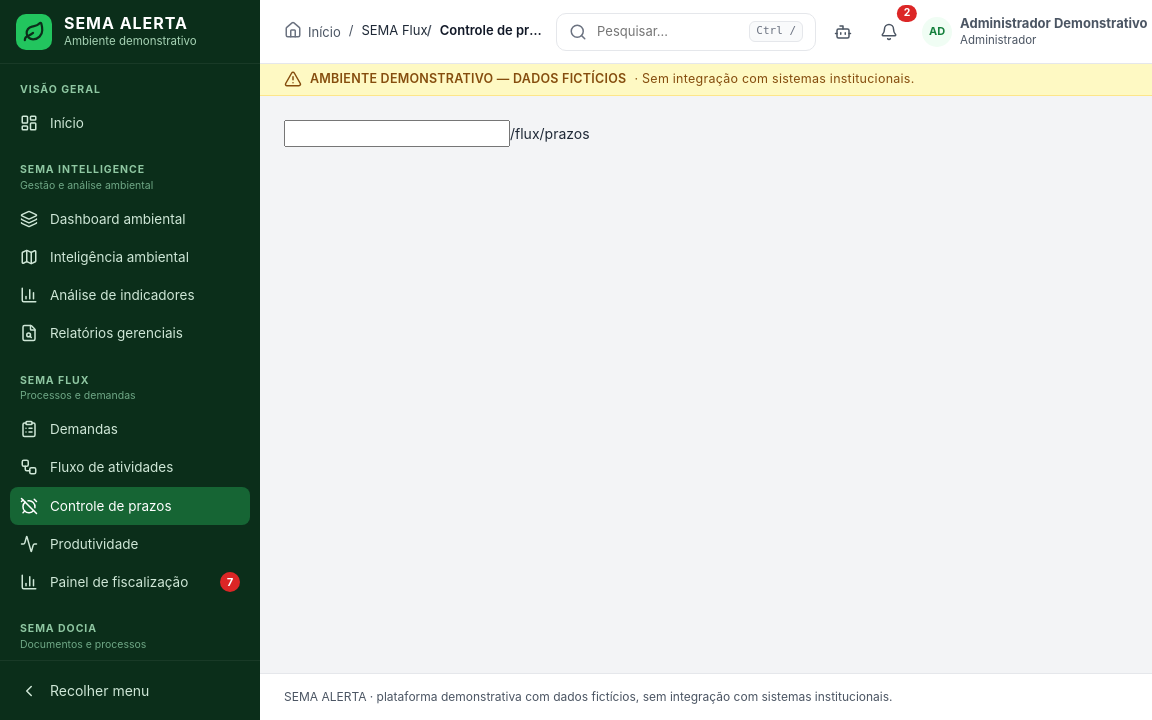
Test: Assistente Global › exibe 429 e 503 como erro
Type keys "{Control>}k{/Control}"
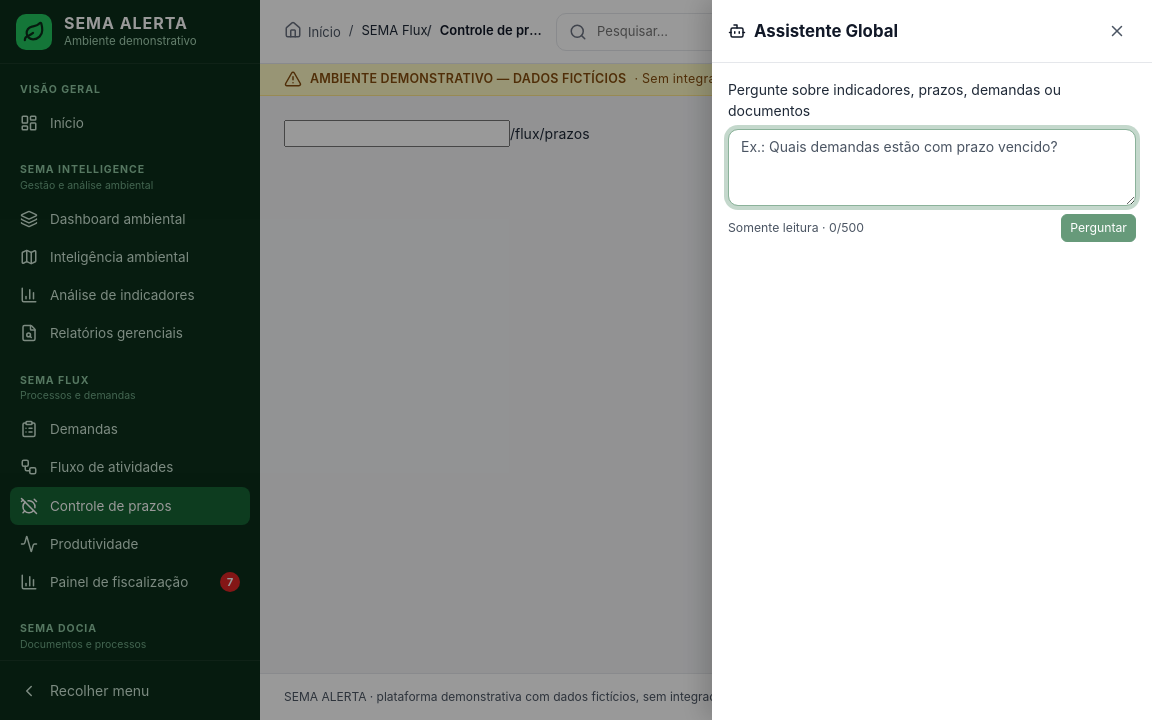
Type "oi" into the text box labelled "Pergunte sobre indicadores, prazos, demandas ou documentos".
click(932, 168); type("oi")  # box [728,129,1136,206]
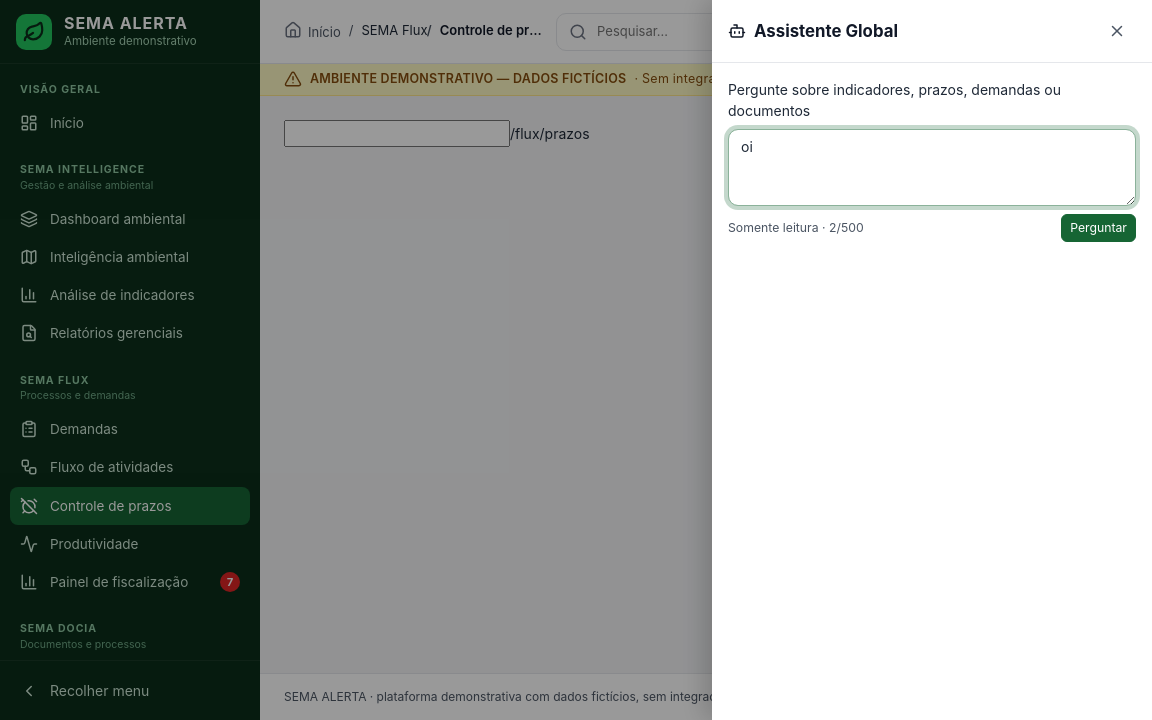
Click the button "Perguntar".
click(1099, 228)  # box [1061,214,1136,242]
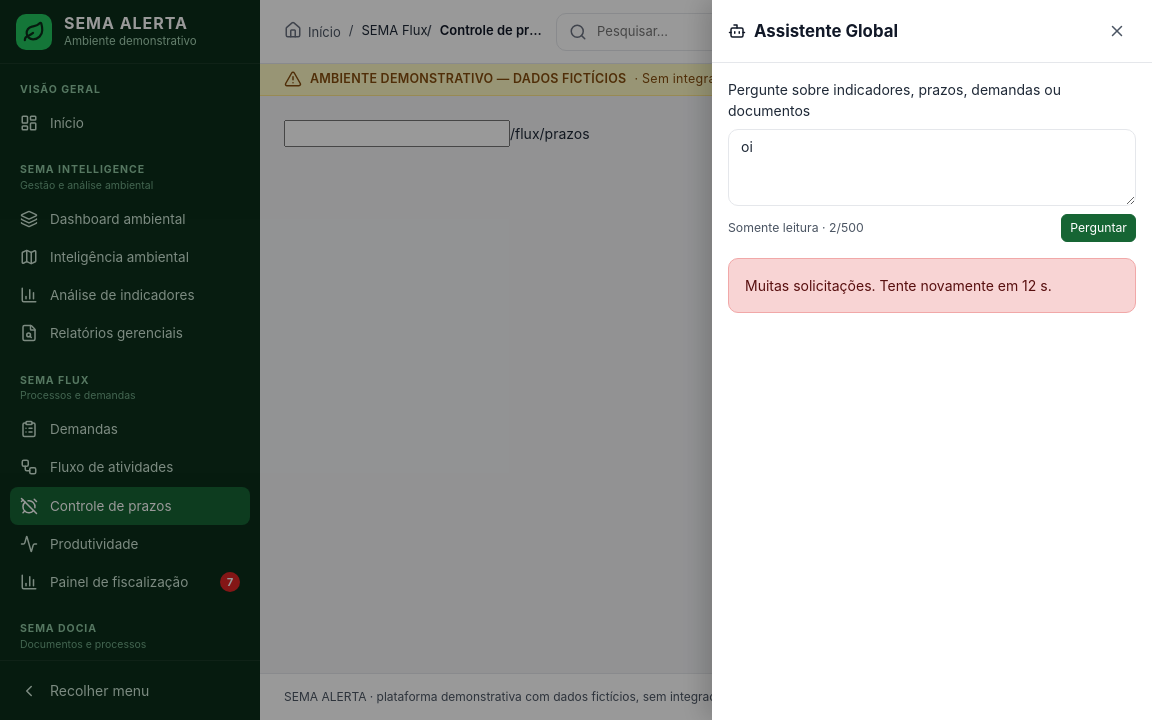
Result: the message shows "Tente novamente em 12 s" at [745,277,1052,294]
Click the button "Perguntar".
click(1099, 228)  # box [1061,214,1136,242]
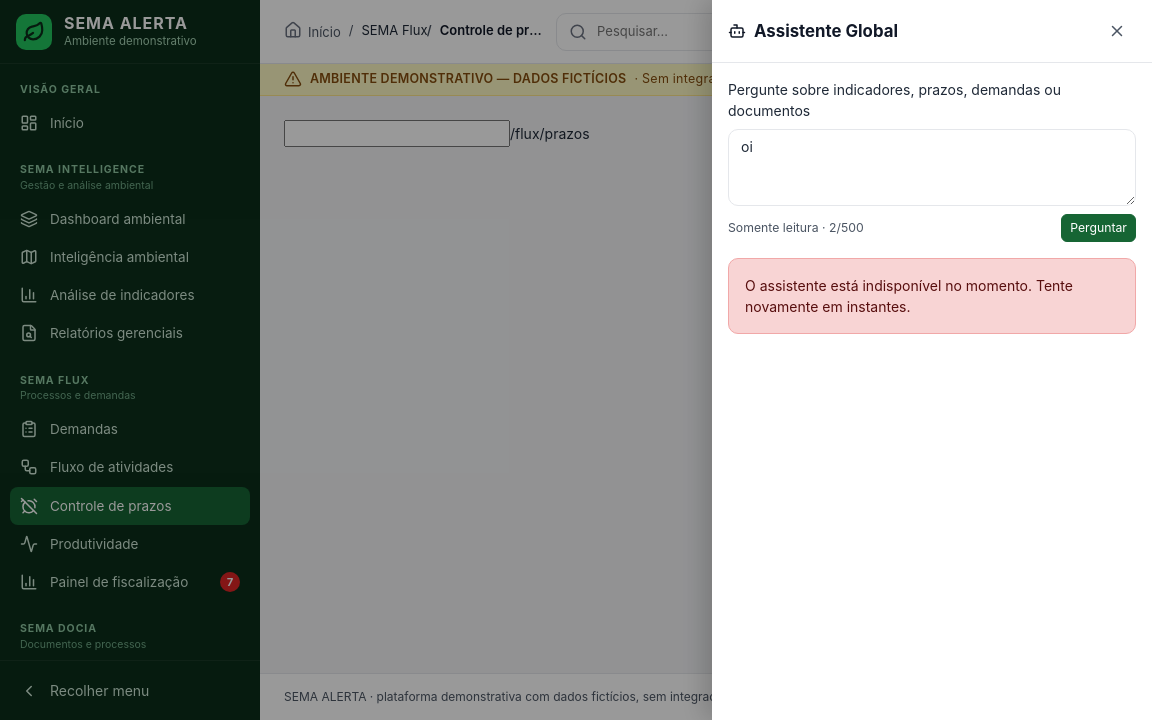
Result: the text "O assistente está indisponível no momento. Tente novamente em instantes." is shown at [728,258,1136,334]
